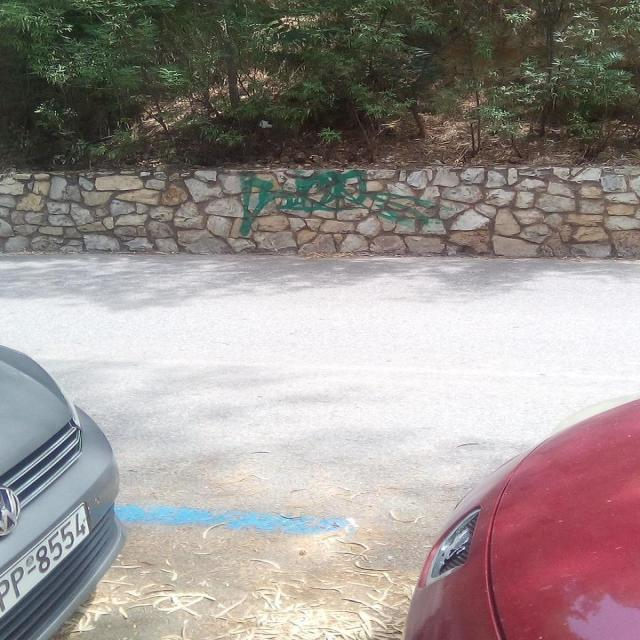nonspitting: (239, 172, 444, 238)
